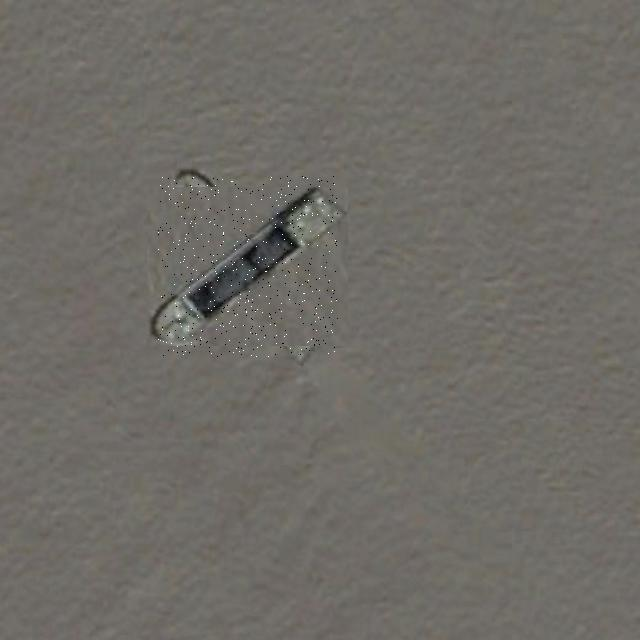boat: (158, 176, 338, 357)
